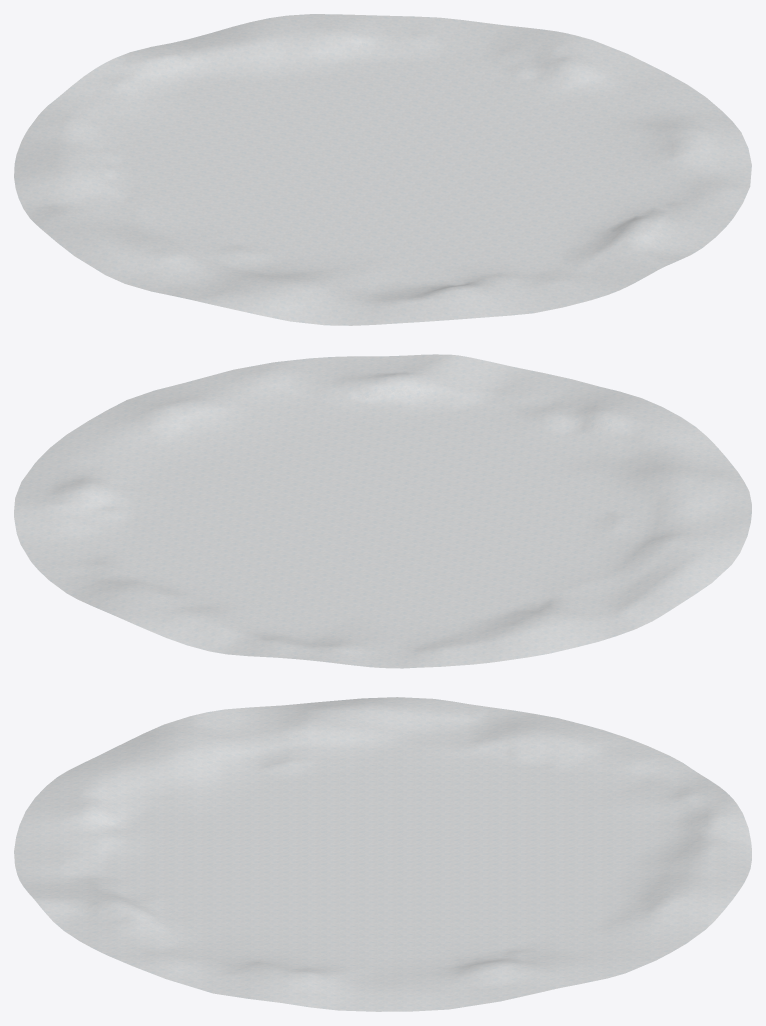
Rendered from EP1_bigTerrain02.fbx.
3 renders of one model, top to bottom at view 1: azimuth 30°, elevation 25°; view 2: azimuth 150°, elevation 25°; view 3: azimuth 270°, elevation 25°, orthographic.
Parts seen in each view (by area): view 1: bigTerrain02; view 2: bigTerrain02; view 3: bigTerrain02.
Boxes of the visible parts, bbox=[...] form: bigTerrain02: bbox=[14, 14, 751, 325]; bigTerrain02: bbox=[14, 354, 751, 668]; bigTerrain02: bbox=[14, 697, 751, 1011].
Size of the model in its own units: 803 by 13.82 by 803.
